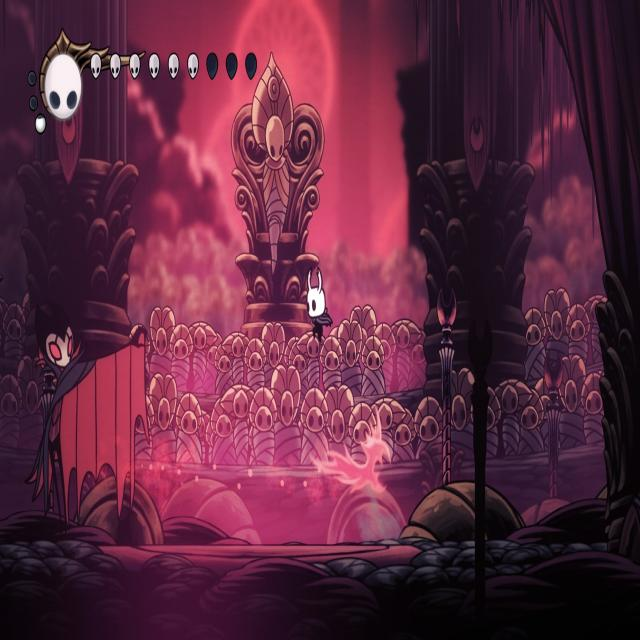Fire Bat: (317, 406, 392, 497)
Open Cloak: (24, 294, 152, 543)
Player: (304, 258, 334, 350)
